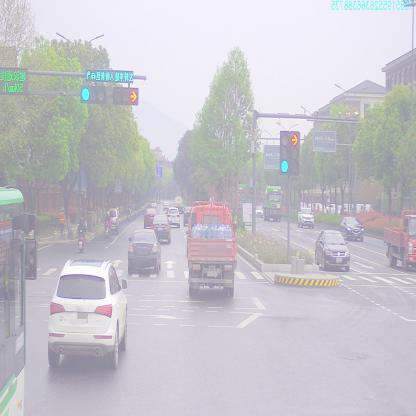traffic-light: (86, 70, 134, 80), (82, 86, 108, 104), (114, 88, 138, 106)
